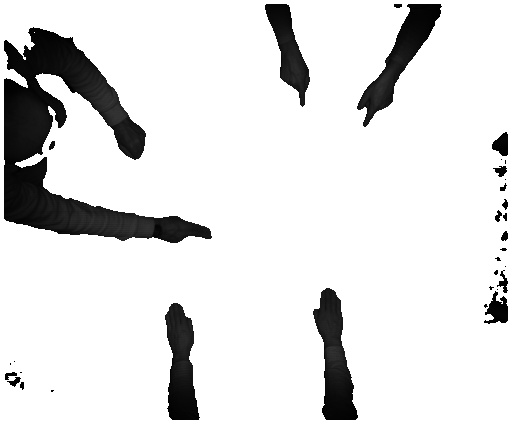fist: (117, 123, 151, 159)
hand: (352, 78, 399, 127), (160, 296, 199, 353), (160, 216, 215, 247), (280, 56, 311, 111), (312, 288, 343, 341)
